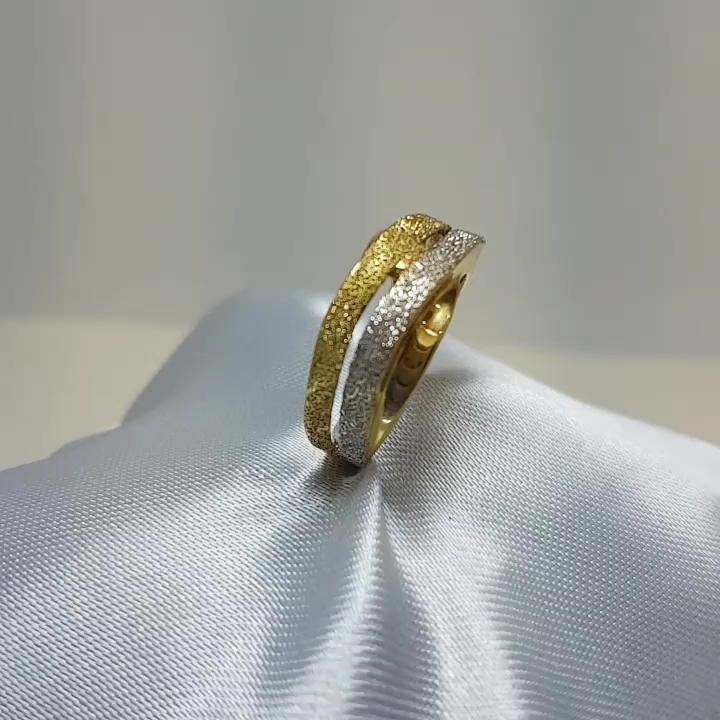Ring 5: (269, 193, 510, 497)
